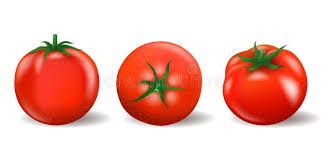tomate: (23, 33, 310, 125)
